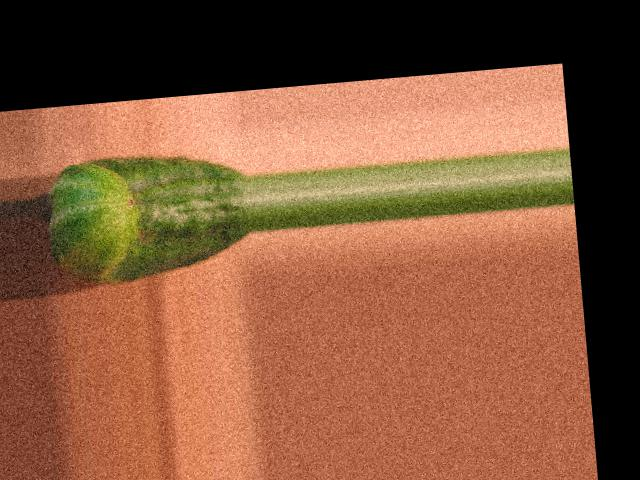cucumber: (44, 145, 253, 288)
